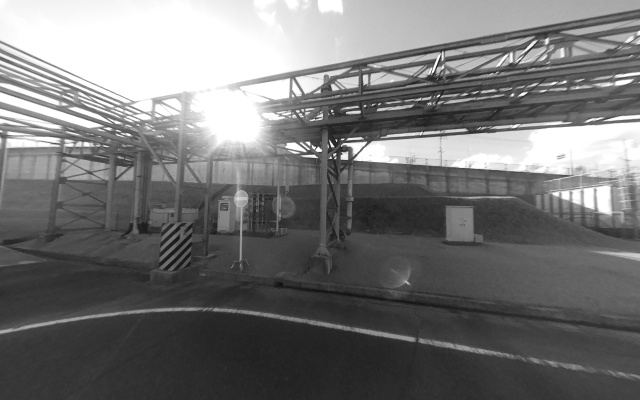bollard: (157, 220, 193, 272)
